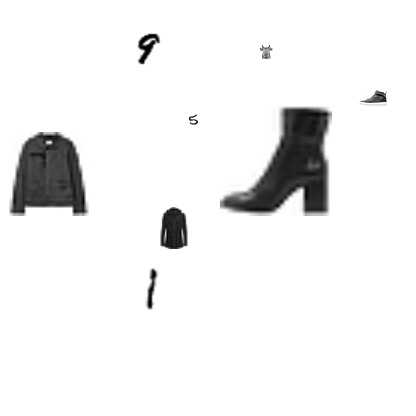1: (122, 259, 178, 315)
5: (186, 113, 200, 127)
7: (290, 171, 304, 185)
9: (125, 25, 167, 67)
Ankle_boot: (220, 104, 332, 216)
Coat: (7, 132, 91, 216), (153, 207, 195, 249)
Shirt: (259, 45, 273, 59)
Sneaker: (359, 84, 387, 112)
